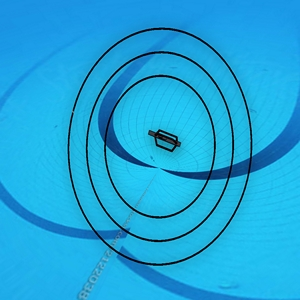circle: (64, 28, 252, 267)
submarine: (150, 128, 182, 152)
